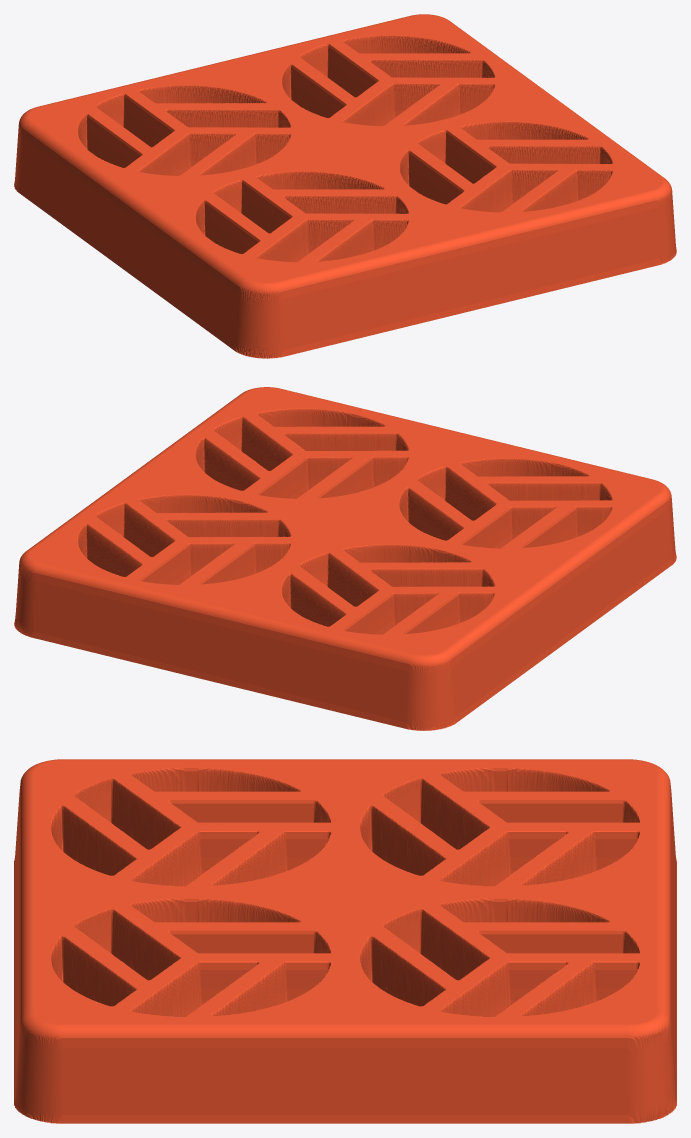
Rendered from mold.glb.
The picture shows the model from 3 angles, top to bottom: view 1: azimuth 30°, elevation 25°; view 2: azimuth 150°, elevation 25°; view 3: azimuth 270°, elevation 25°; orthographic projection. The views are drawn at different scales.
Parts seen in each view (by area): view 1: geometry_0; view 2: geometry_0; view 3: geometry_0.
Boxes of the visible parts, <box> form: geometry_0: <box>14,14,676,358</box>; geometry_0: <box>14,387,676,730</box>; geometry_0: <box>14,759,676,1123</box>.
Size of the model in its own units: 0.1218 by 0.0185 by 0.1218.
